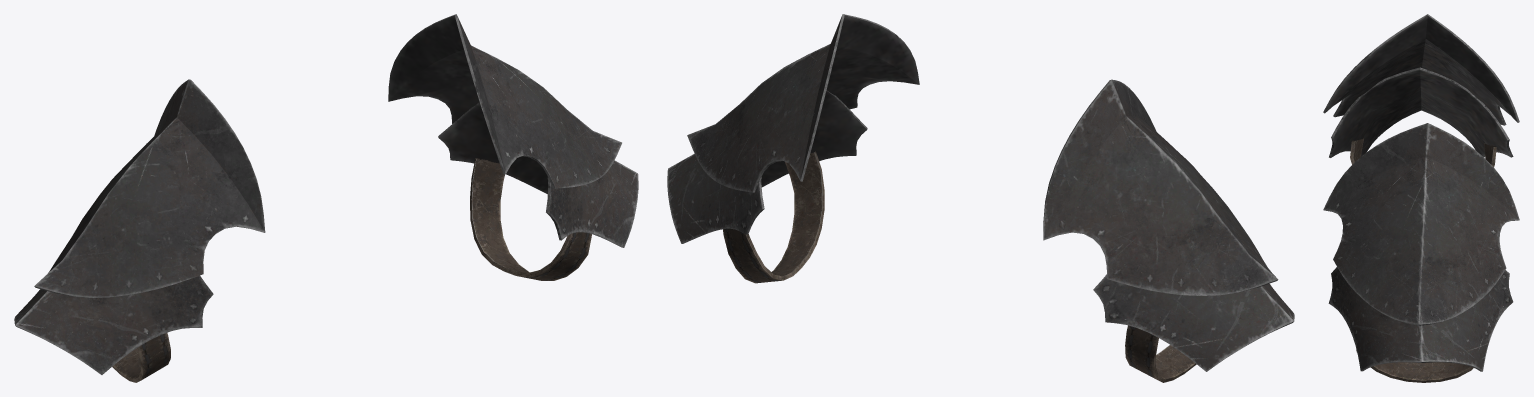
The model's file is sk_uruk_mordor_pauldron_heavy_d.fbx.
The picture shows the model from 3 angles, left to right: view 1: azimuth 30°, elevation 25°; view 2: azimuth 150°, elevation 25°; view 3: azimuth 270°, elevation 25°; orthographic projection. The views are drawn at different scales.
Visible parts, largest first — view 1: sk_uruk_mordor_pauldron_heavy_d.1, sk_uruk_mordor_pauldron_heavy_d.0; view 2: sk_uruk_mordor_pauldron_heavy_d.1, sk_uruk_mordor_pauldron_heavy_d.0; view 3: sk_uruk_mordor_pauldron_heavy_d.1, sk_uruk_mordor_pauldron_heavy_d.0.
Boxes of the visible parts, x1,y1,x2,y2 form: sk_uruk_mordor_pauldron_heavy_d.1: (14, 14, 638, 374); sk_uruk_mordor_pauldron_heavy_d.0: (112, 158, 591, 382); sk_uruk_mordor_pauldron_heavy_d.1: (667, 14, 1294, 371); sk_uruk_mordor_pauldron_heavy_d.0: (723, 151, 1196, 382); sk_uruk_mordor_pauldron_heavy_d.1: (1323, 14, 1519, 371); sk_uruk_mordor_pauldron_heavy_d.0: (1350, 138, 1496, 382).
Bounding box in the file's own units: 0.8779 × 0.2878 × 0.3738.
2 materials, 2 textured.
